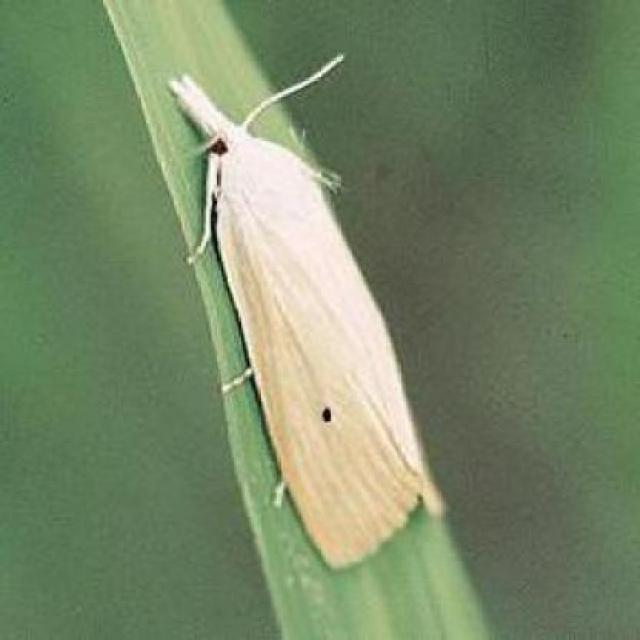stem-borer: (165, 51, 442, 571)
